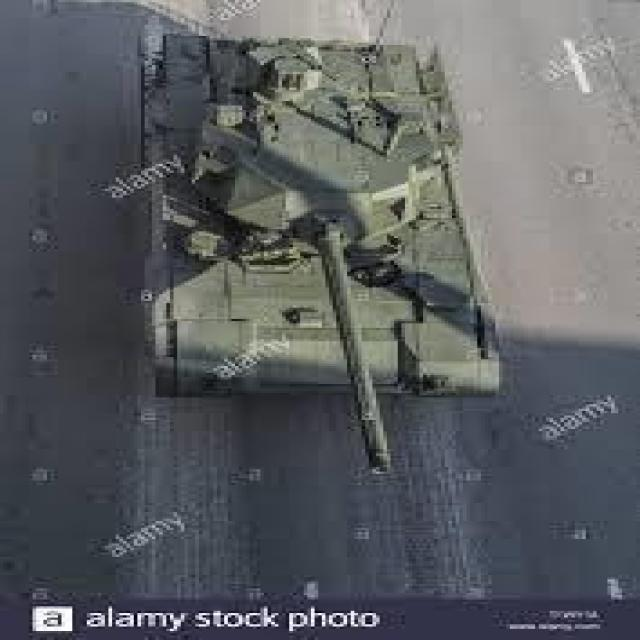MIL_MBT: (114, 25, 526, 485)
